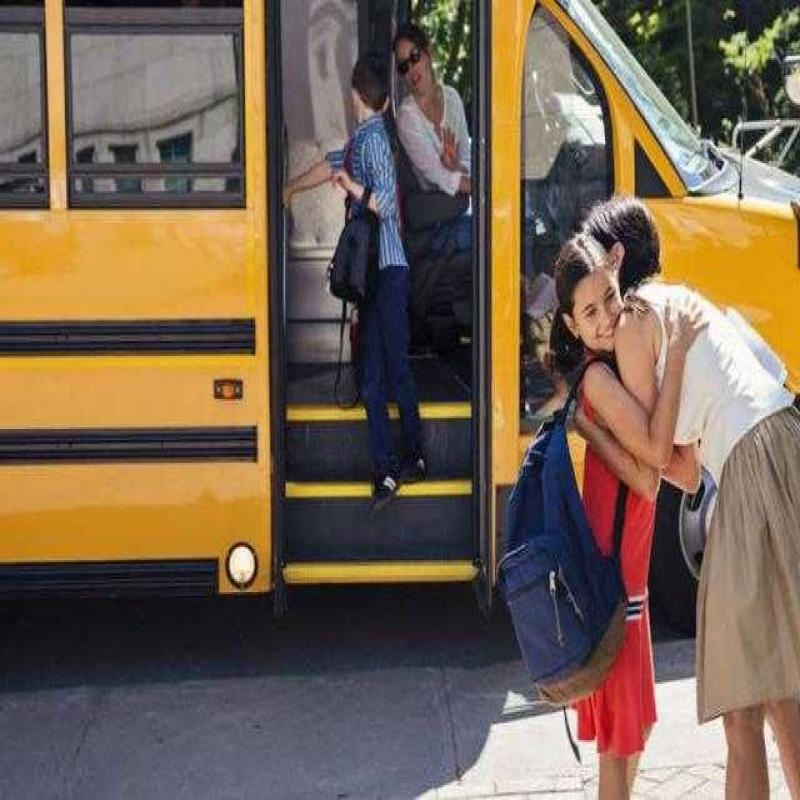bus: (8, 16, 800, 620)
